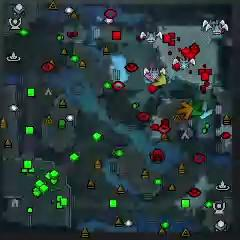x1: (144, 73, 156, 83)
x2: (153, 73, 169, 87)
x3: (198, 101, 213, 120)
x4: (188, 99, 203, 118)
x5: (176, 101, 193, 120)
